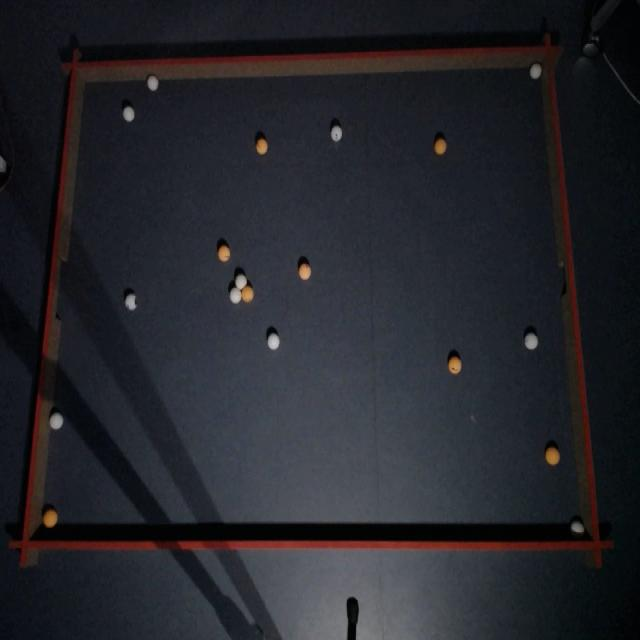orange_ball: (42, 508, 57, 529), (545, 446, 560, 466), (241, 284, 254, 303), (434, 136, 447, 155), (449, 356, 461, 374), (298, 263, 310, 279), (218, 246, 230, 262), (256, 136, 266, 154)
white_ball: (49, 411, 63, 430), (524, 333, 538, 350), (146, 74, 159, 91), (235, 272, 247, 290), (529, 63, 542, 79), (268, 333, 280, 350), (230, 284, 241, 302), (123, 106, 134, 122), (331, 125, 342, 141), (572, 519, 584, 533), (128, 295, 136, 309)
